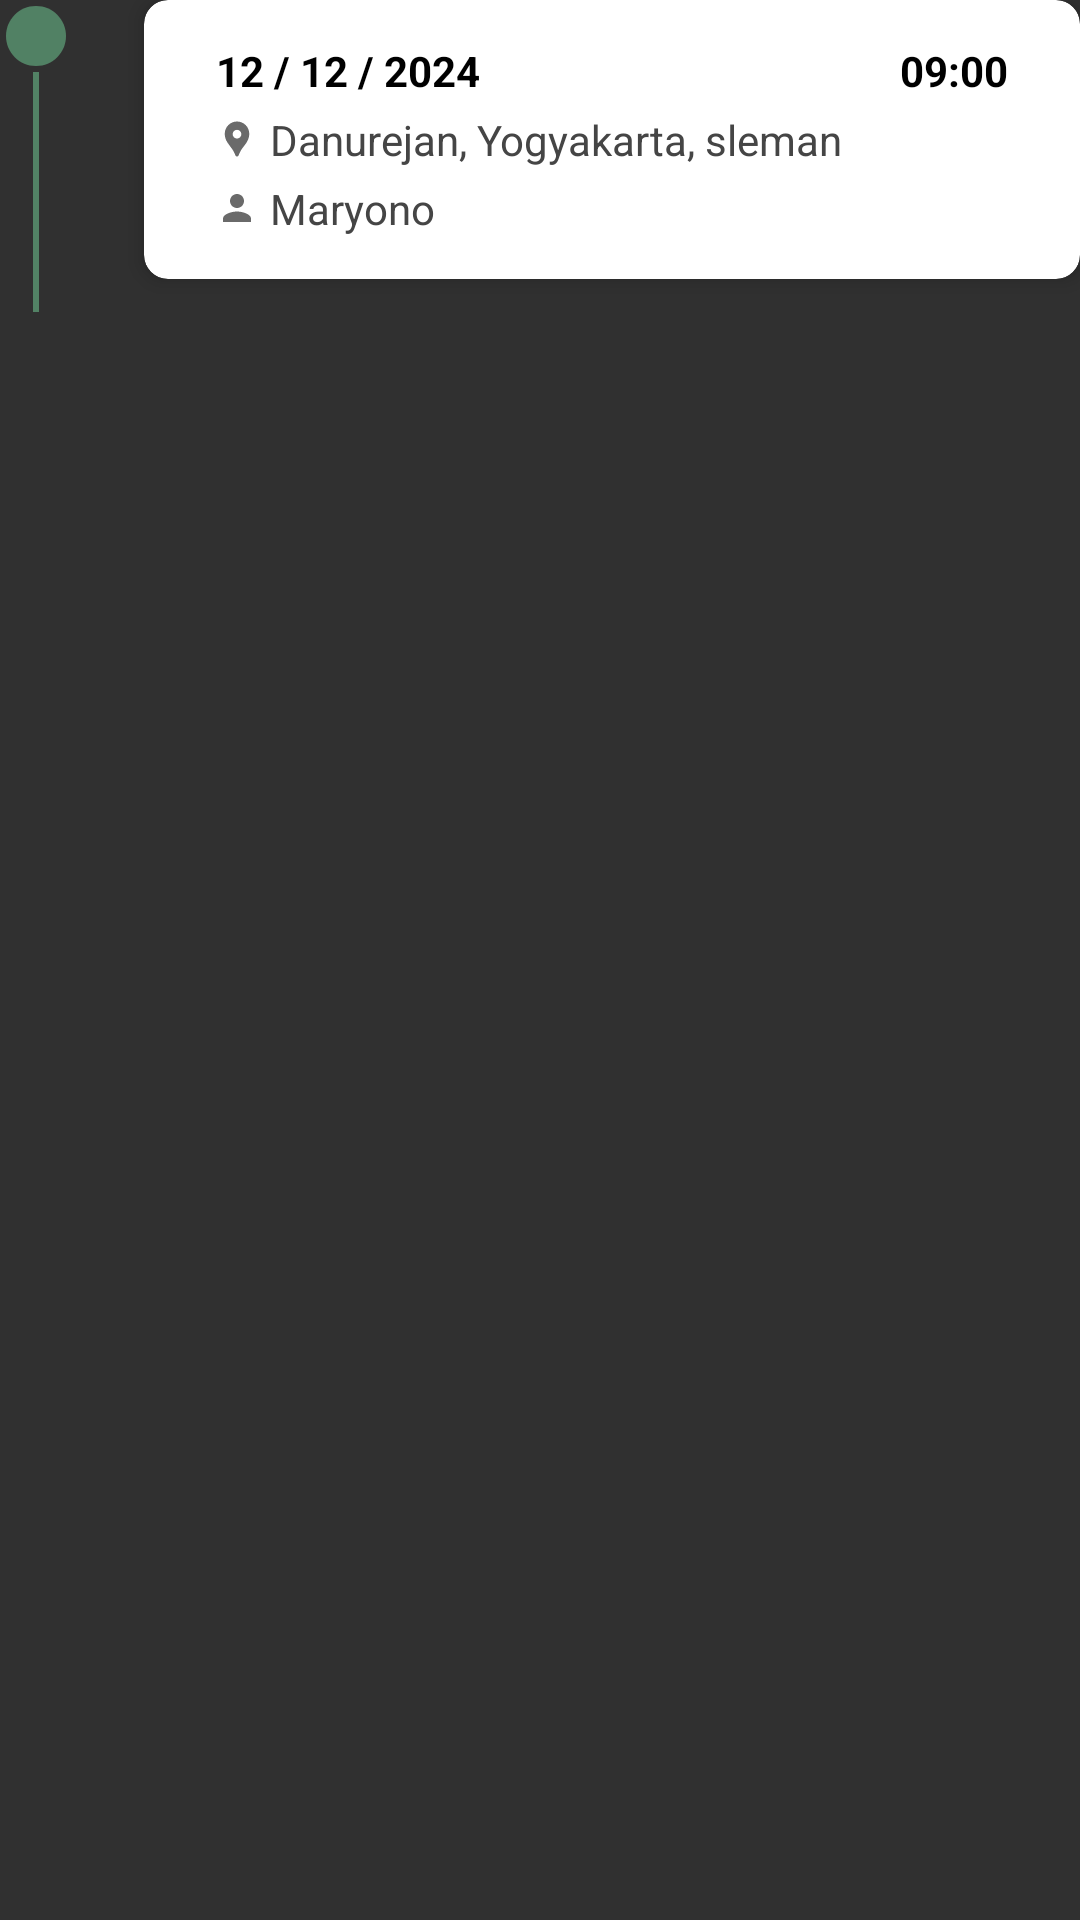

Named icons in this screenshot (1080*1920) and their centers, (x,y):
location: (237,139)
person: (237,208)
